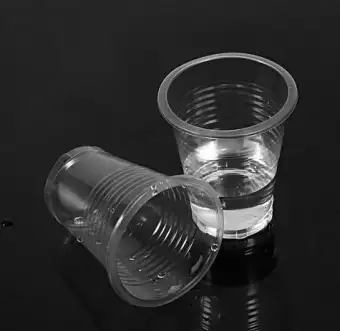plastic_glass: (153, 42, 303, 240)
